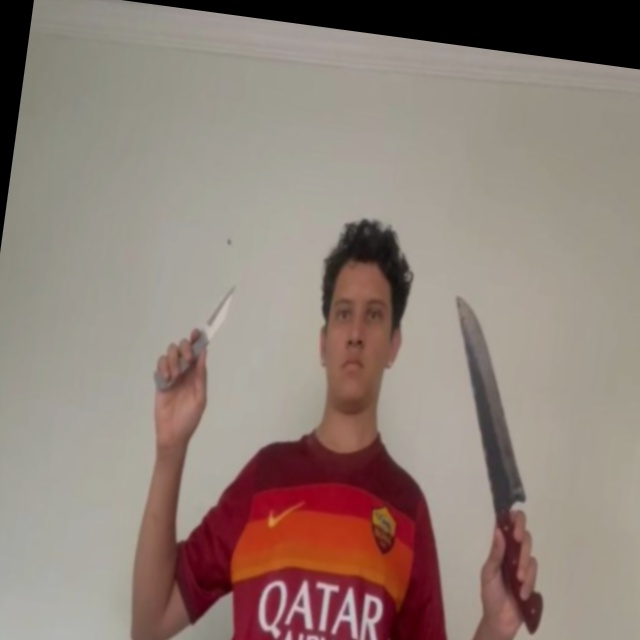Sharp-Object: (429, 293, 552, 506), (203, 280, 235, 338)
